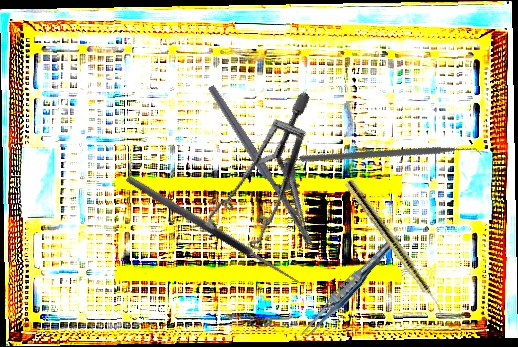Chopper: (299, 70, 486, 248)
Handpiece: (342, 177, 451, 321)
Hook Surgical: (124, 166, 309, 287)
Needle Holder: (206, 70, 337, 248)
Speculum: (171, 90, 364, 269)
Tissue Forceps: (295, 229, 403, 347)
